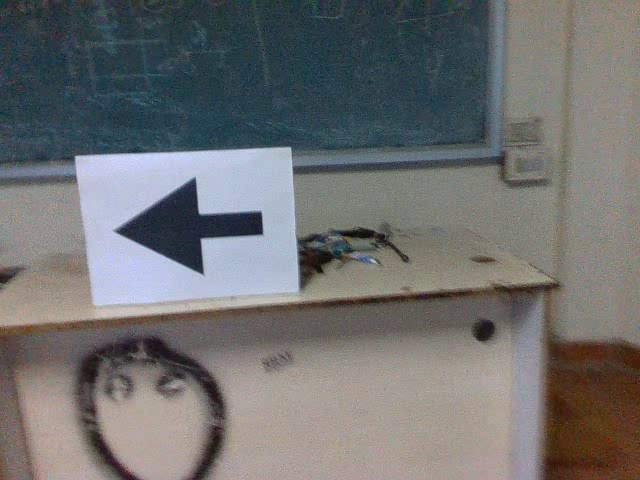Left: (103, 174, 268, 283)
